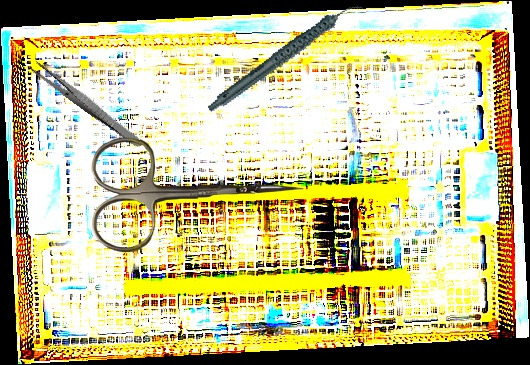Dressing Forceps: (27, 58, 147, 150)
Handpiece: (192, 0, 379, 113)
Iris Scissors: (90, 132, 306, 253)
